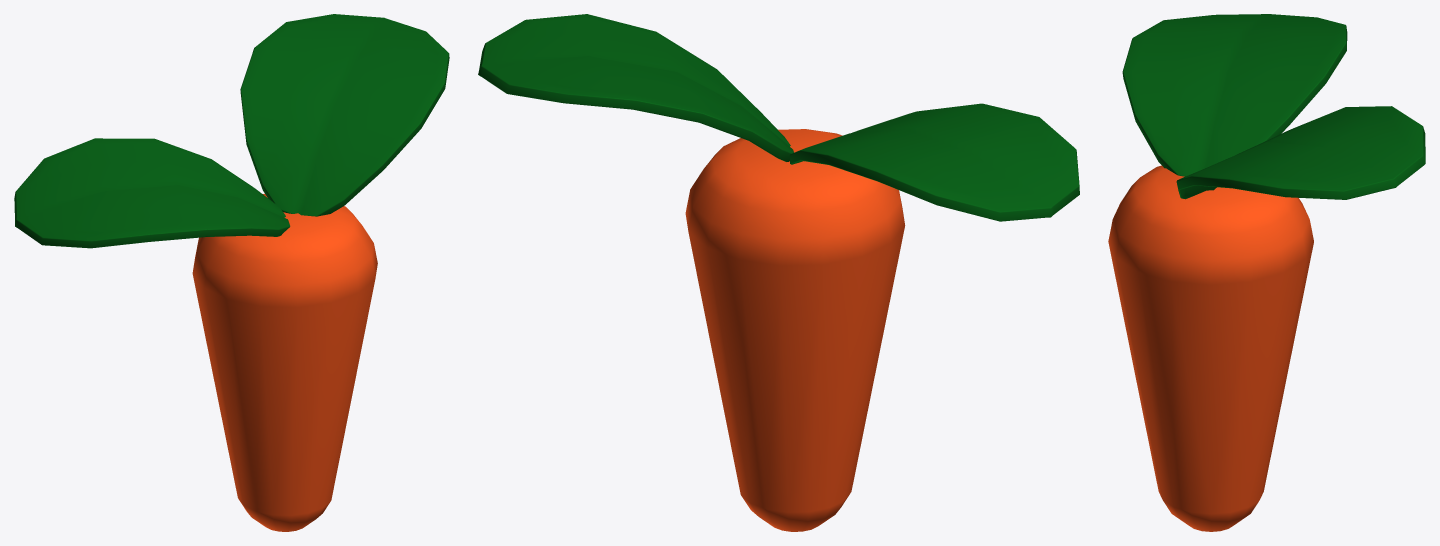
File: Farm_1_Carrot_1.glb
3 renders of one model, left to right at view 1: azimuth 30°, elevation 25°; view 2: azimuth 150°, elevation 25°; view 3: azimuth 270°, elevation 25°, orthographic. The views are drawn at different scales.
Parts seen in each view (by area): view 1: Farm_1_Carrot_1; view 2: Farm_1_Carrot_1; view 3: Farm_1_Carrot_1.
Boxes of the visible parts, bbox=[...] form: Farm_1_Carrot_1: bbox=[14, 14, 449, 531]; Farm_1_Carrot_1: bbox=[478, 14, 1079, 531]; Farm_1_Carrot_1: bbox=[1108, 14, 1425, 531].
Bounding box in the file's own units: 0.6256 × 0.551 × 0.35.
Materials: 1 (1 with a texture image).
